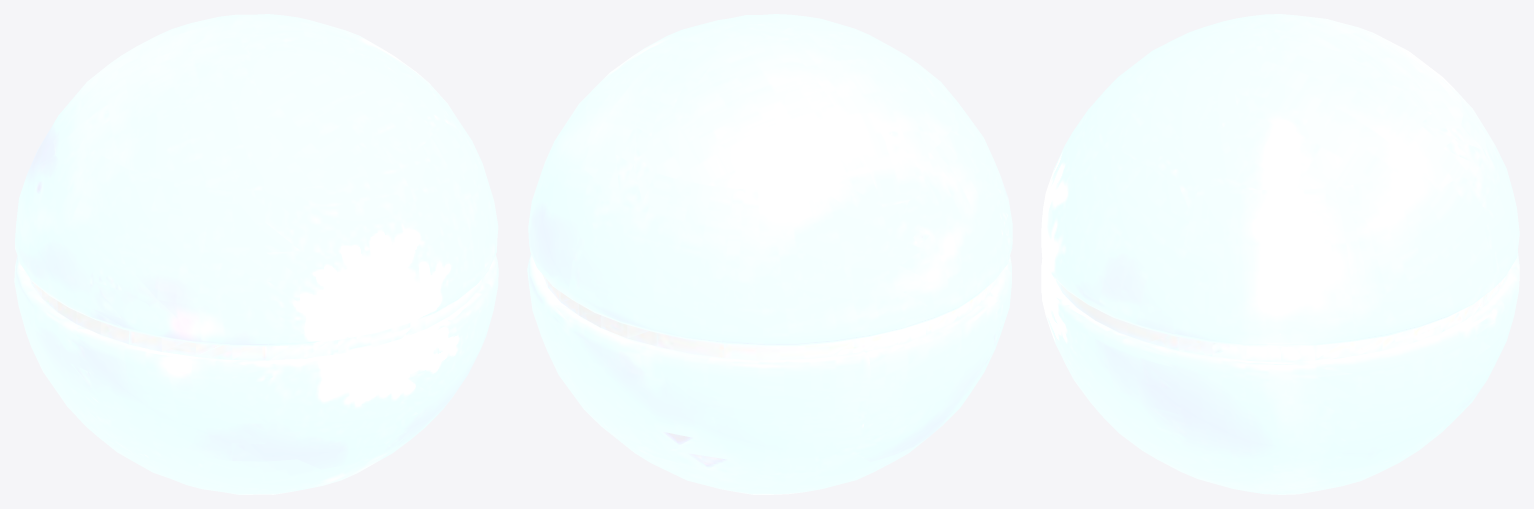
Rendered from orbe-coracao.glb.
The picture shows the model from 3 angles, left to right: view 1: azimuth 30°, elevation 25°; view 2: azimuth 150°, elevation 25°; view 3: azimuth 270°, elevation 25°; orthographic projection.
Visible parts, largest first — view 1: mesh_node; view 2: mesh_node; view 3: mesh_node.
Boxes of the visible parts, x1,y1,x2,y2 form: mesh_node: (14, 14, 498, 494); mesh_node: (527, 14, 1012, 494); mesh_node: (1041, 14, 1519, 494).
Bounding box in the file's own units: 1 × 1 × 1.
Materials: 1 (1 with a texture image).
